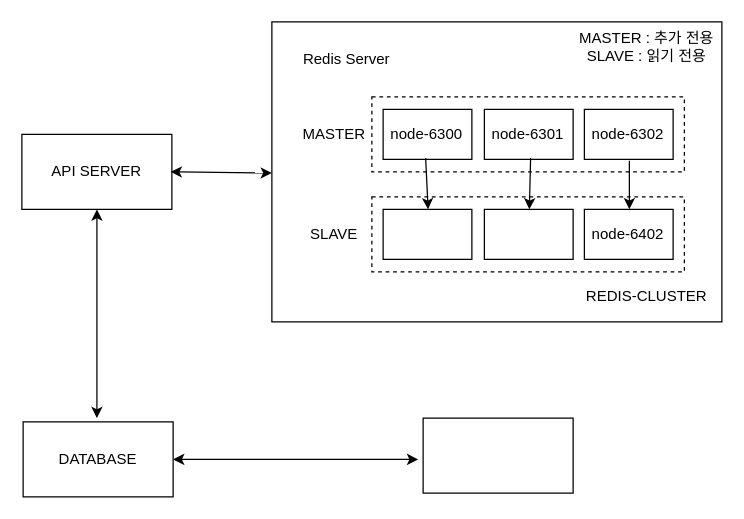
This 744x519 diagram has some shape labels left out. The box of each missing label's shape, as (x1, y1, x2, y2) in pixels:
BACKOFFICE SERVER: (422, 417, 573, 493)
node-6400: (382, 208, 472, 259)
node-6401: (483, 208, 573, 259)
